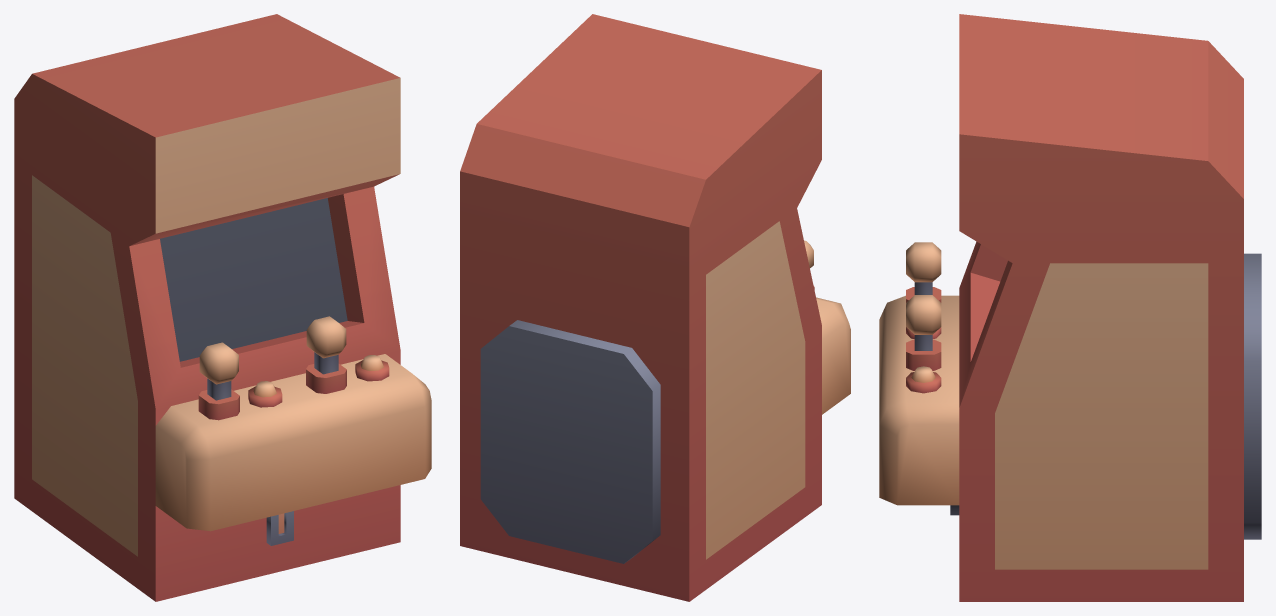
File: arcade-machine.obj
The picture shows the model from 3 angles, left to right: view 1: azimuth 30°, elevation 25°; view 2: azimuth 150°, elevation 25°; view 3: azimuth 270°, elevation 25°; orthographic projection. The views are drawn at different scales.
Parts seen in each view (by area): view 1: arcade-machine; view 2: arcade-machine; view 3: arcade-machine.
Boxes of the visible parts, x1,y1,x2,y2 form: arcade-machine: (14,14,431,601); arcade-machine: (460,14,850,601); arcade-machine: (879,14,1261,601).
Size of the model in its own units: 0.4 by 0.725 by 0.5375.
